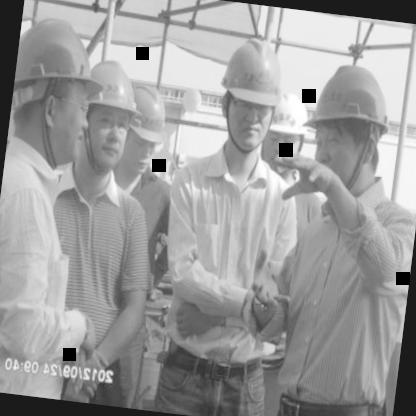helmet: (302, 53, 397, 202), (5, 12, 93, 168), (208, 33, 288, 158), (67, 54, 136, 178), (113, 81, 172, 178), (262, 87, 310, 175)
